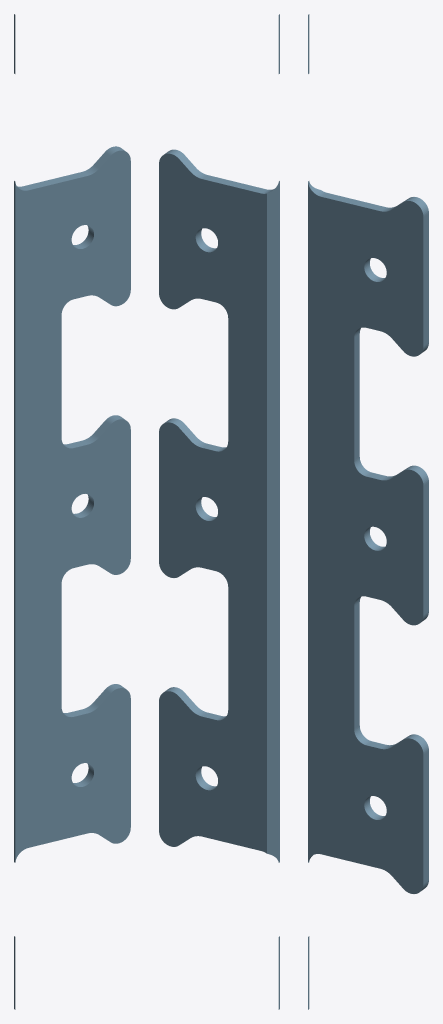
Rendered from door-panel-bottom-right-subpanel-flap.glb.
3 renders of one model, left to right at view 1: azimuth 30°, elevation 25°; view 2: azimuth 150°, elevation 25°; view 3: azimuth 330°, elevation 25°, orthographic.
Parts seen in each view (by area): view 1: door-panel-bottom-right-subpanel-flap; view 2: door-panel-bottom-right-subpanel-flap; view 3: door-panel-bottom-right-subpanel-flap.
Part boxes in pixels (box(x1,y1,x2,y2)): door-panel-bottom-right-subpanel-flap: box(14, 14, 130, 1009); door-panel-bottom-right-subpanel-flap: box(159, 14, 279, 1009); door-panel-bottom-right-subpanel-flap: box(308, 14, 428, 1009).
Bounding box in the file's own units: 108 × 891 × 9.
